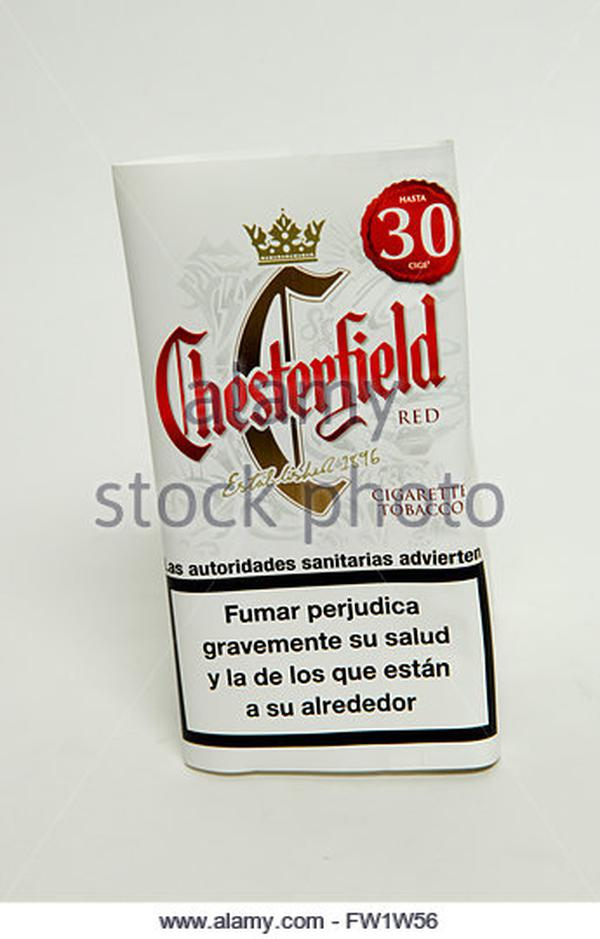chesterfield_red: (143, 168, 464, 681)
